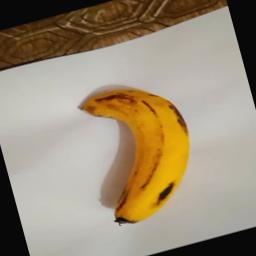Banana Unripe: (75, 66, 209, 232)
